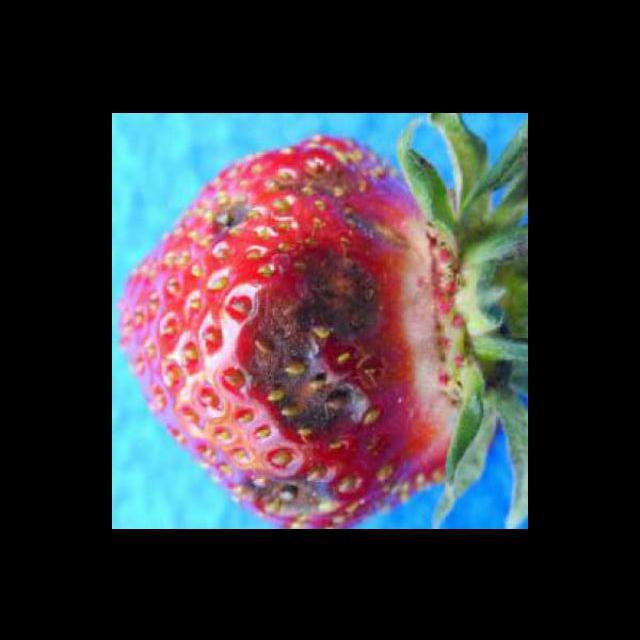Anthracnose Fruit Rot: (210, 161, 421, 527)
